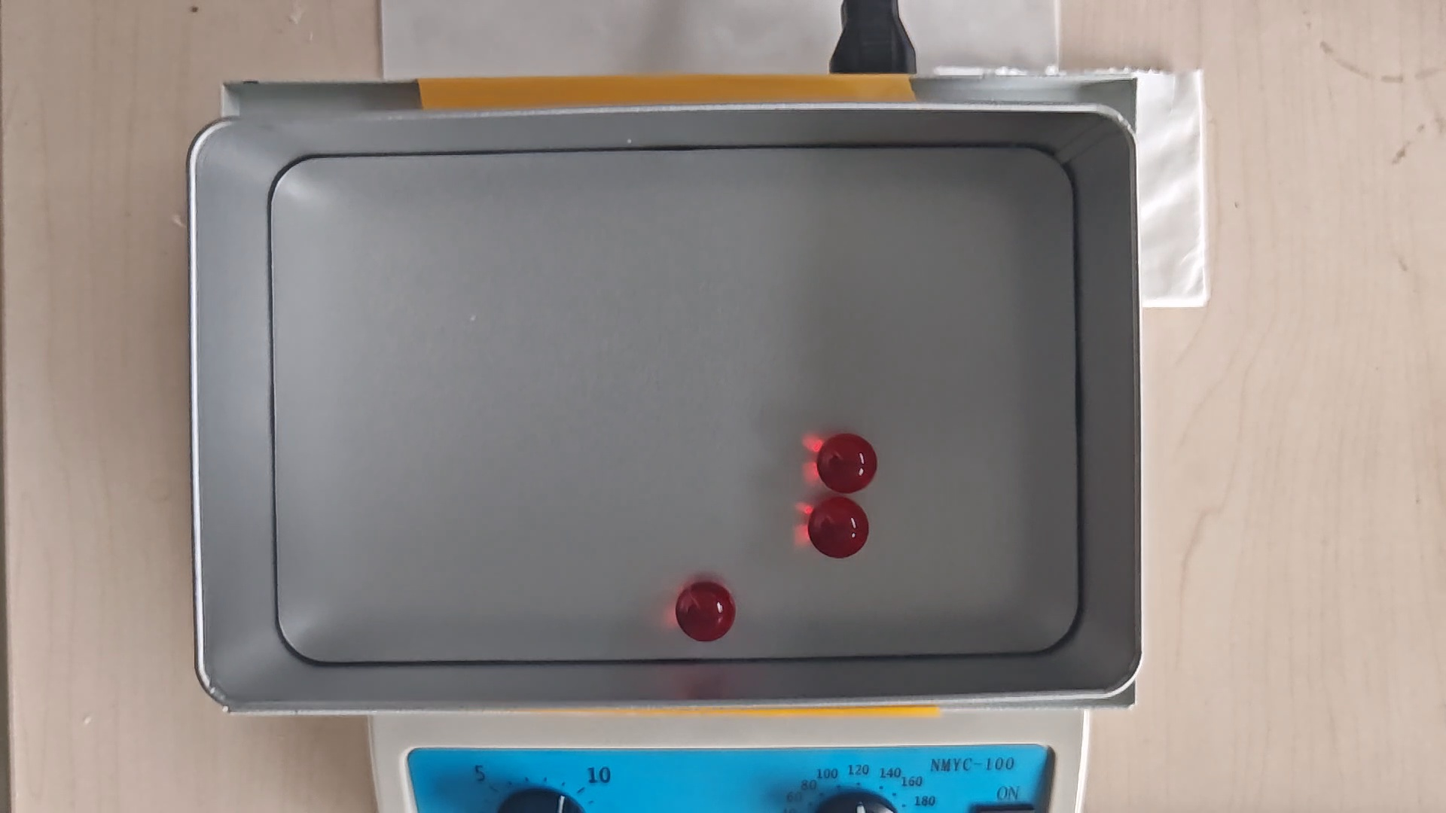ball: (816, 431, 878, 495), (807, 498, 871, 559), (676, 581, 734, 641)
container: (269, 151, 1079, 657)
